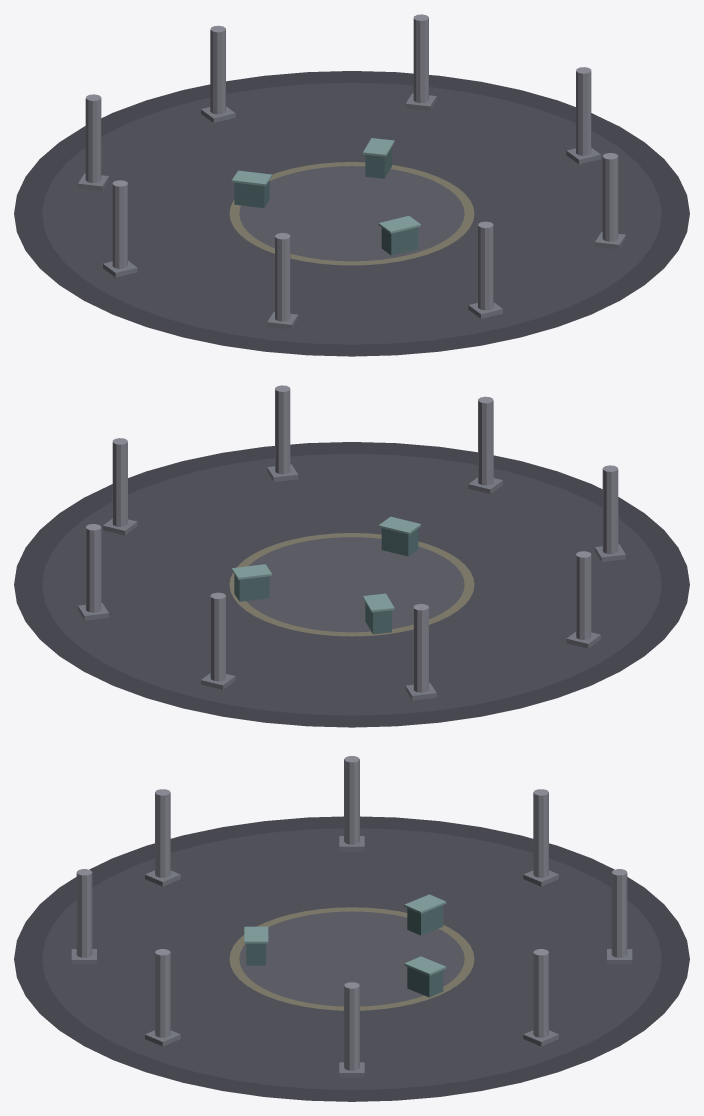
Rendered from home.glb.
The picture shows the model from 3 angles, top to bottom: view 1: azimuth 30°, elevation 25°; view 2: azimuth 150°, elevation 25°; view 3: azimuth 270°, elevation 25°; orthographic projection.
Visible parts, largest first — view 1: floor, columns, pedestals; view 2: floor, columns, pedestals; view 3: floor, columns, pedestals.
Part boxes in pixels (x1,y1,x2,y2): floor: [14, 71, 689, 356]; columns: [78, 14, 625, 329]; pedestals: [231, 138, 420, 255]; floor: [14, 442, 689, 727]; columns: [78, 385, 625, 700]; pedestals: [231, 516, 420, 634]; floor: [14, 816, 689, 1101]; columns: [71, 756, 632, 1077]; pedestals: [244, 894, 446, 997].
Size of what is drawn, in the model's own units: 24 by 3.4 by 24.
